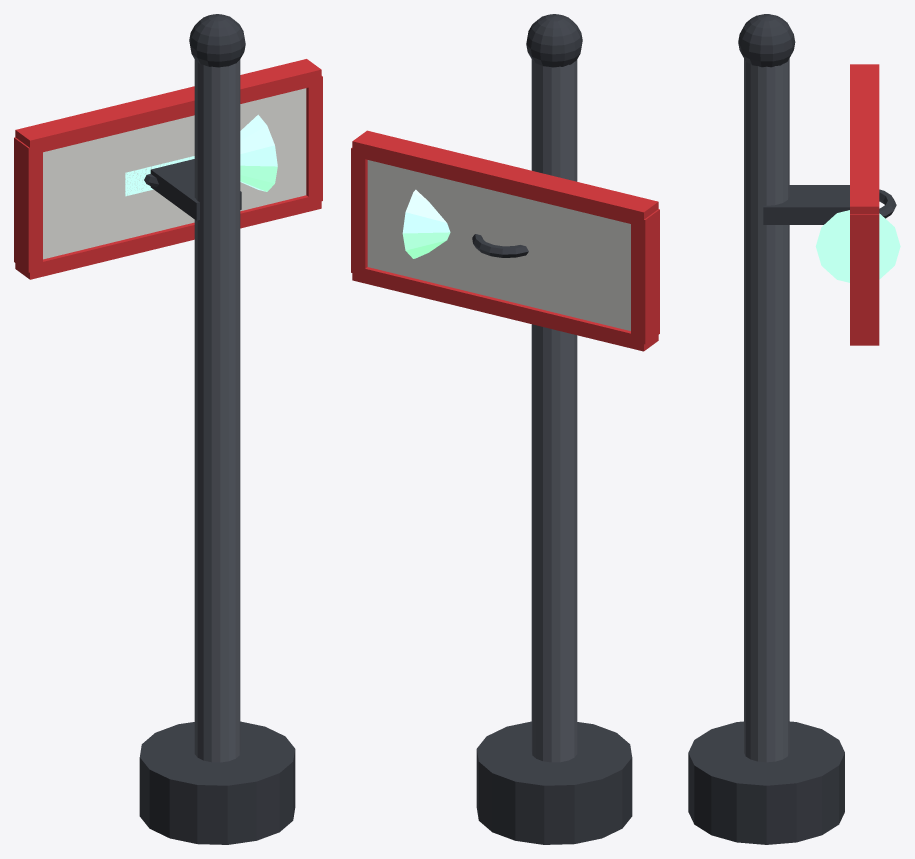
The model's file is prop_sign.glb.
The picture shows the model from 3 angles, left to right: view 1: azimuth 30°, elevation 25°; view 2: azimuth 150°, elevation 25°; view 3: azimuth 270°, elevation 25°; orthographic projection.
Visible parts, largest first — view 1: Post, Plate, Base, FrameTop, FrameBot, FrameSide_0, PostCap, ArrowHead, FrameSide_1, Bracket, ArrowShaft; view 2: Plate, Post, Base, FrameTop, FrameBot, FrameSide_0, PostCap, ArrowHead, FrameSide_1, BoltRing; view 3: Post, Base, FrameTop, FrameSide_1, ArrowHead, Bracket, PostCap.
Boxes of the visible parts, x1,y1,x2,y2 form: Post: [194, 59, 240, 762]; Plate: [43, 88, 306, 259]; Base: [139, 721, 295, 844]; FrameTop: [15, 59, 321, 155]; FrameBot: [15, 194, 321, 279]; FrameSide_0: [14, 137, 42, 272]; PostCap: [189, 14, 245, 67]; ArrowHead: [240, 114, 277, 191]; FrameSide_1: [306, 76, 322, 200]; Bracket: [150, 159, 241, 220]; ArrowShaft: [125, 156, 194, 196]; Plate: [367, 160, 630, 330]; Post: [531, 59, 577, 762]; Base: [476, 721, 632, 844]; FrameTop: [352, 130, 658, 225]; FrameBot: [352, 265, 658, 351]; FrameSide_0: [631, 209, 659, 344]; PostCap: [526, 14, 582, 67]; ArrowHead: [402, 189, 450, 258]; FrameSide_1: [351, 148, 367, 275]; BoltRing: [472, 234, 528, 257]; Post: [744, 58, 789, 762]; Base: [688, 721, 844, 844]; FrameTop: [850, 64, 879, 213]; FrameSide_1: [850, 214, 879, 338]; ArrowHead: [815, 210, 900, 282]; Bracket: [763, 185, 849, 224]; PostCap: [738, 14, 795, 67].
Size of the model in its own units: 1.04 by 2.69 by 0.65.
